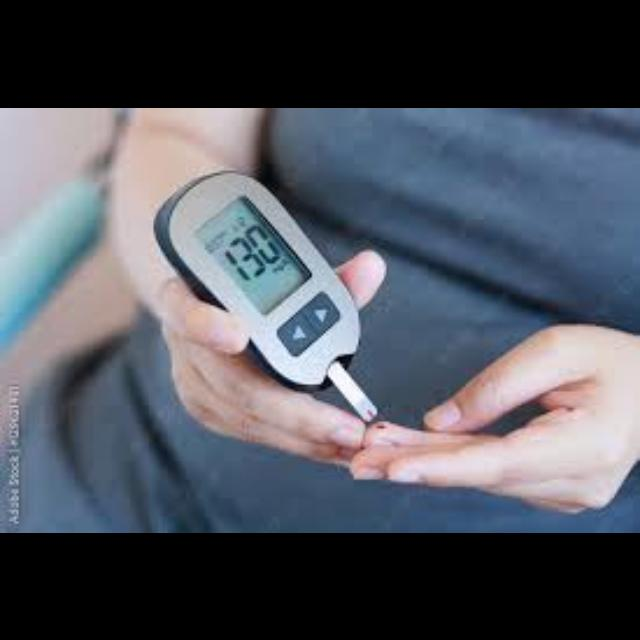Glucose-Meter: (154, 170, 376, 420)
